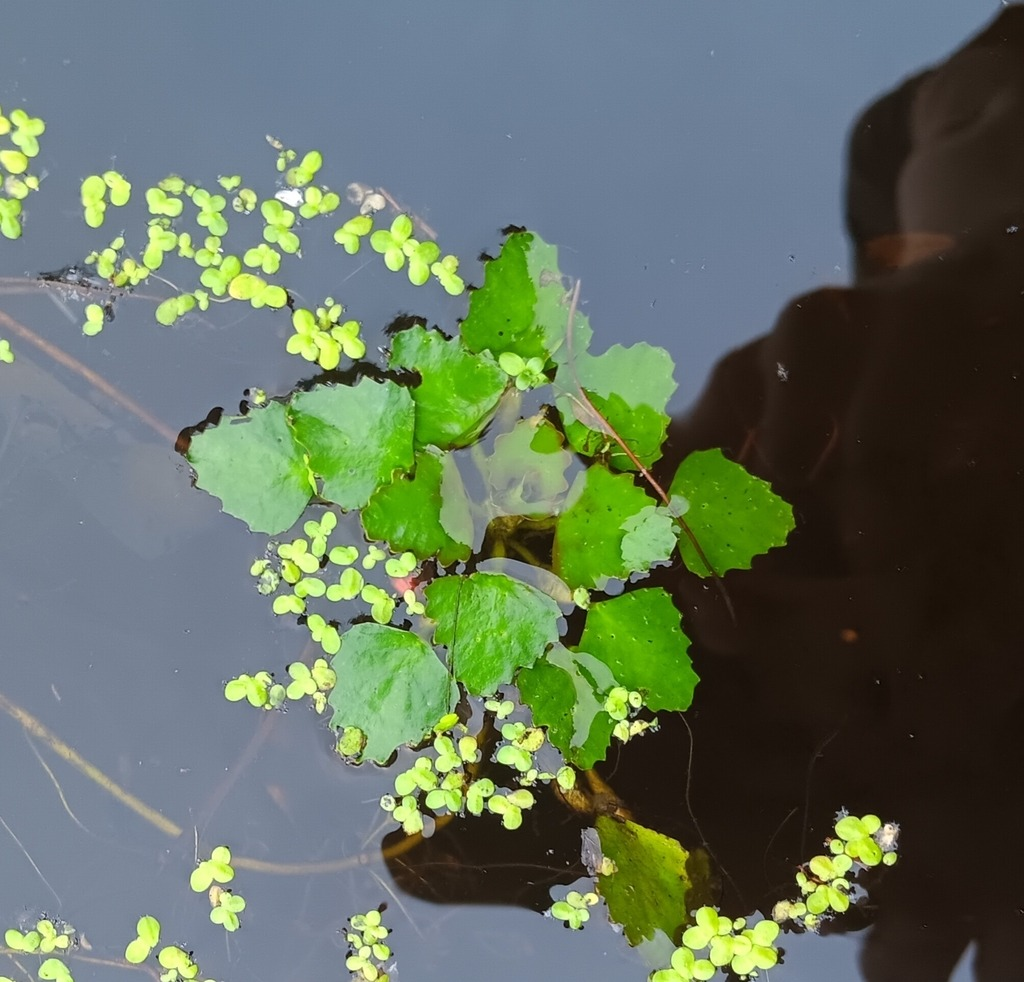water chestnut: (4, 104, 900, 976)
